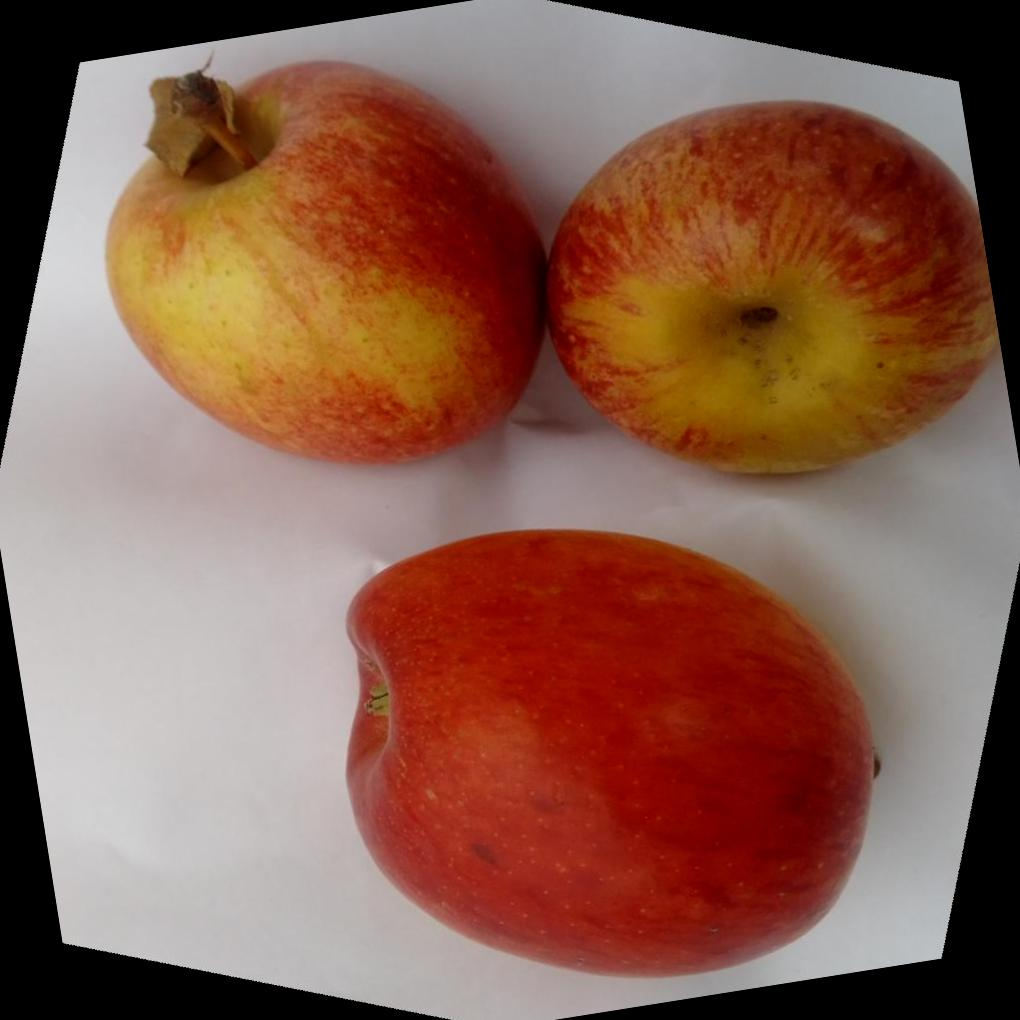FreshGuava: (103, 60, 999, 479), (345, 530, 880, 982)
